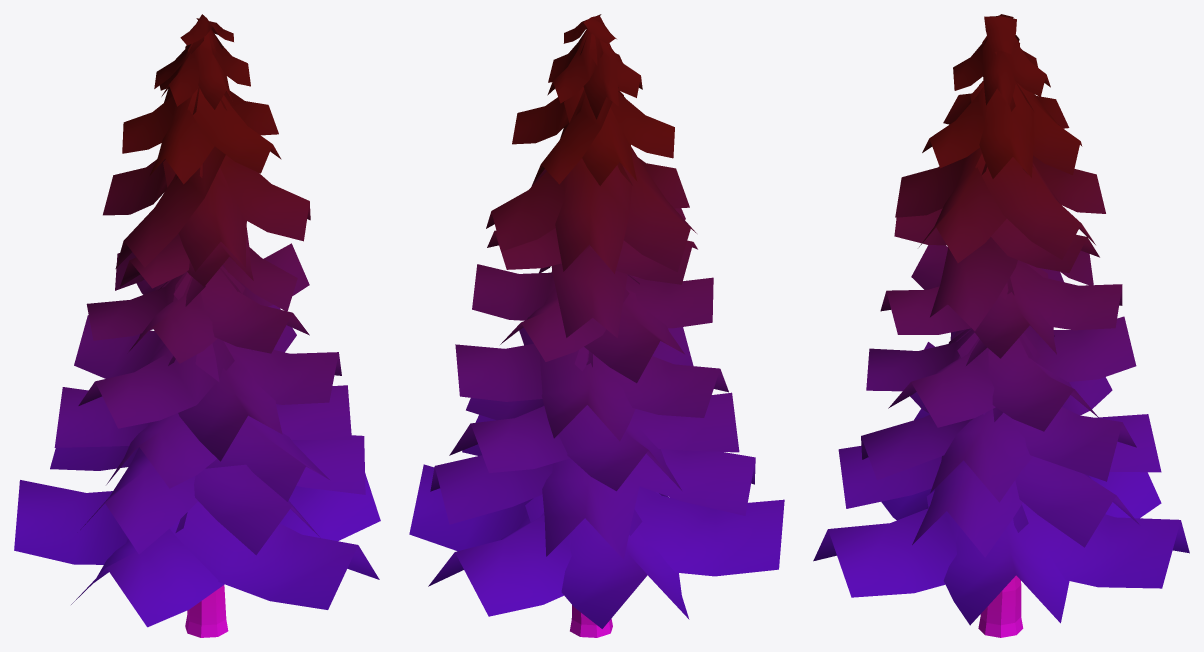
Rendered from SM_Tree_Pine_01.fbx.
3 renders of one model, left to right at view 1: azimuth 30°, elevation 25°; view 2: azimuth 150°, elevation 25°; view 3: azimuth 270°, elevation 25°, orthographic.
Parts seen in each view (by area): view 1: SM_Tree_Pine_01_LOD0; view 2: SM_Tree_Pine_01_LOD0; view 3: SM_Tree_Pine_01_LOD0.
Part boxes in pixels (x1,y1,x2,y2): SM_Tree_Pine_01_LOD0: (14, 14, 380, 637); SM_Tree_Pine_01_LOD0: (409, 14, 784, 637); SM_Tree_Pine_01_LOD0: (813, 14, 1189, 637).
Size of what is drawn, in the model's own units: 314 by 568 by 317.
